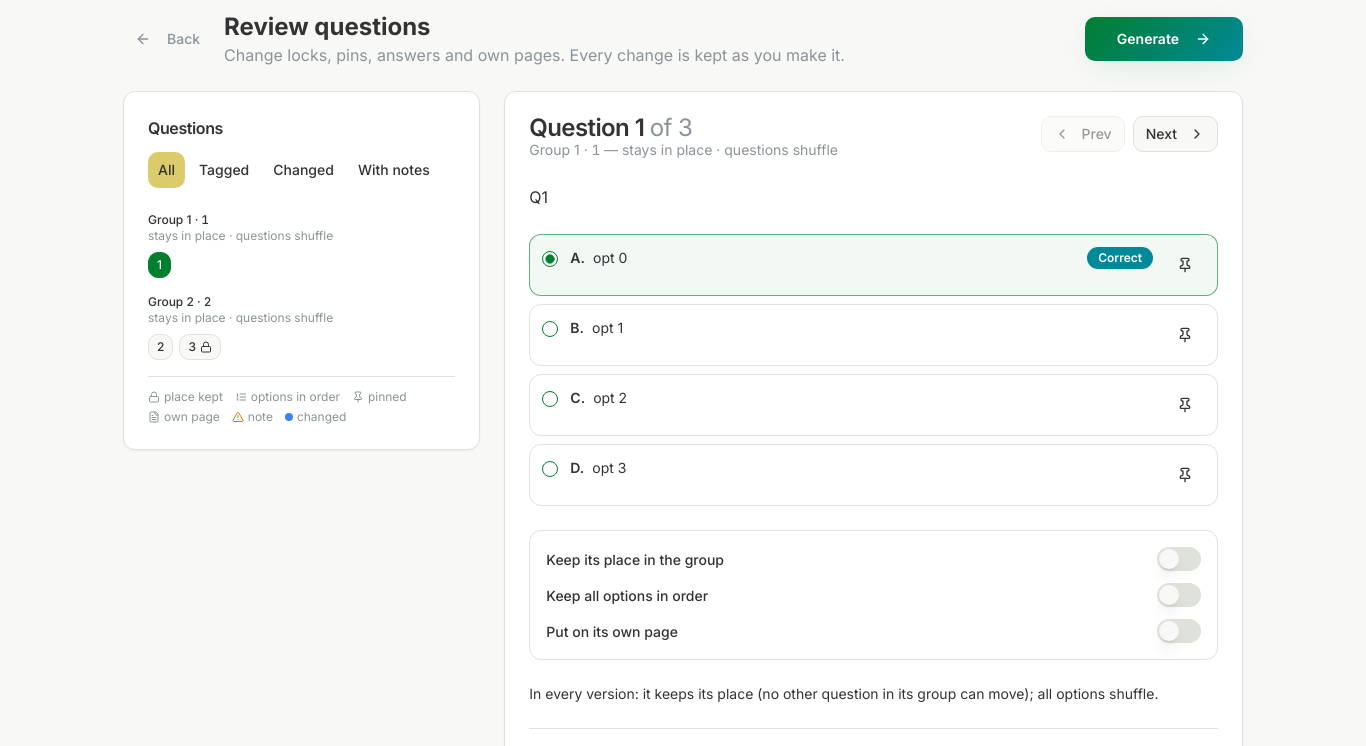
Test: Questions page › says a question keeps its place when nothing else in its group can move
Expected: the text with test id "effect" shows "In every version: it keeps its place (no other question in its group can move); all options shuffle.", [529, 685, 1158, 702]
Click the button with test id "chip-2" at (161, 347), box [148, 334, 173, 360]
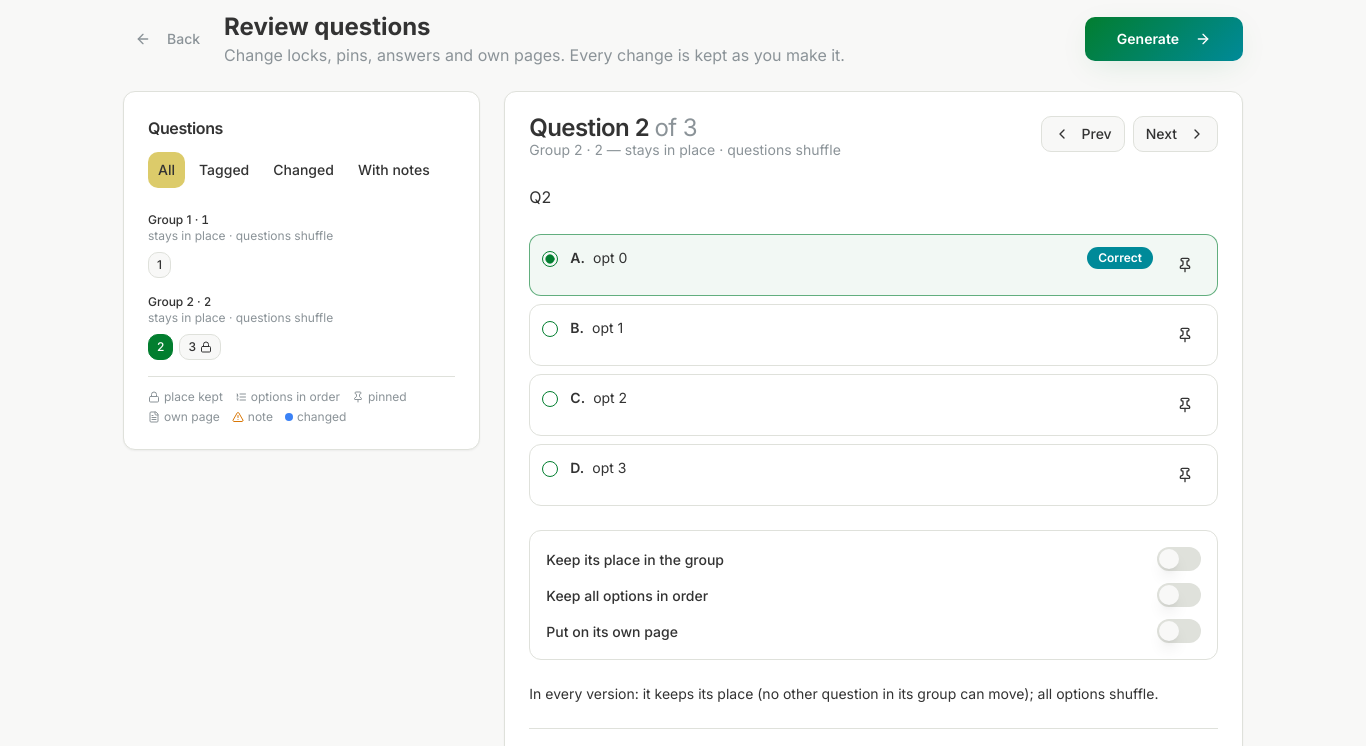
Expected: the text with test id "effect" shows "it keeps its place (no other question in its group can move)", [529, 685, 1158, 702]
Click the switch in the row of "Keep its place in the group" at (1179, 559), box [1157, 547, 1201, 571]
(page scrolled)
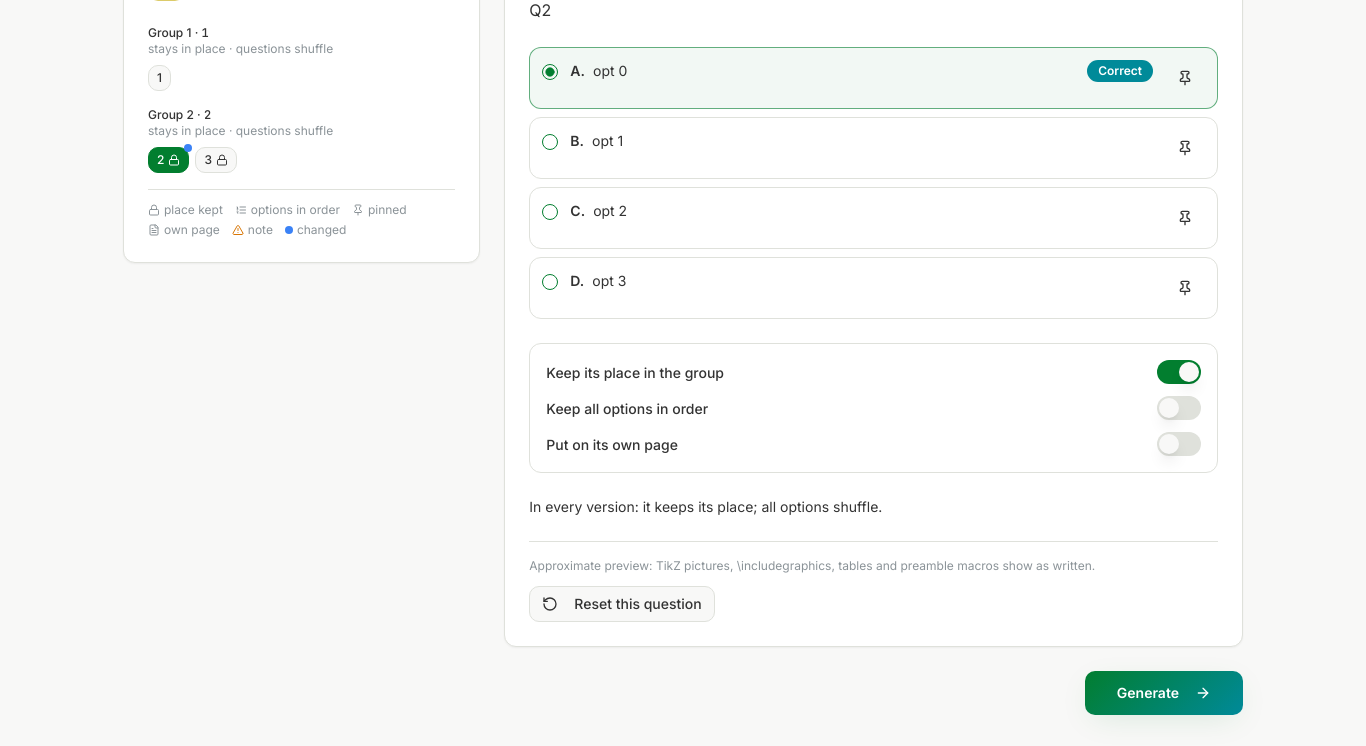
Expected: the text with test id "effect" shows "it keeps its place;", [529, 498, 882, 515]
